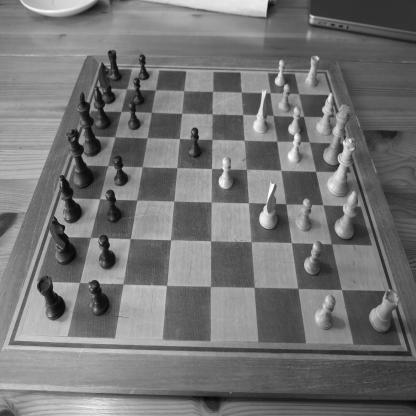black-bishop: (59, 174, 82, 224), (94, 86, 111, 130)
black-king: (76, 92, 102, 157)
black-knight: (50, 216, 76, 266), (98, 62, 116, 104)
black-pawn: (88, 279, 110, 317), (98, 234, 116, 269), (105, 189, 122, 223), (113, 155, 128, 187), (188, 127, 201, 158), (132, 77, 145, 105), (128, 101, 140, 130), (138, 54, 150, 80)
black-queen: (65, 128, 94, 189)
black-rook: (36, 275, 66, 321), (107, 49, 122, 82)
white-bishop: (334, 190, 358, 241), (316, 92, 334, 136)
white-king: (322, 104, 350, 166)
white-knight: (258, 181, 278, 230), (253, 89, 268, 134)
white-pawn: (314, 294, 336, 330), (303, 240, 323, 276), (295, 198, 312, 232), (218, 156, 234, 191), (287, 132, 302, 164), (288, 106, 301, 136), (274, 59, 286, 87), (278, 84, 290, 112)
white-queen: (327, 136, 358, 198)
white-rook: (368, 289, 400, 334), (305, 56, 320, 88)
